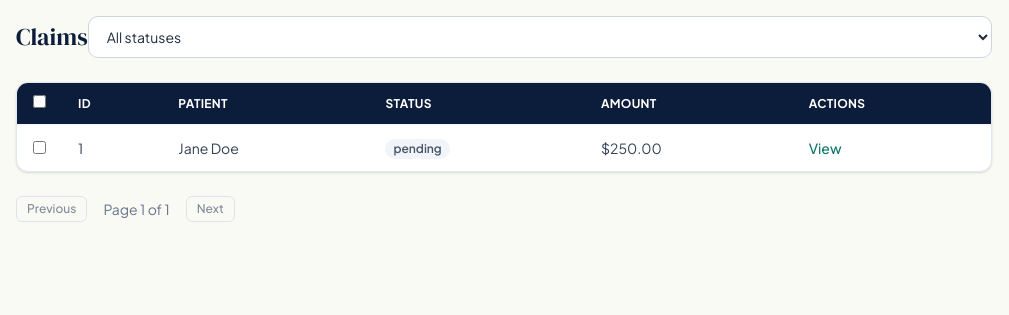
Test: ClaimsList › toolbar appears when a row is selected and clears on Clear
Check: the text "Jane Doe" is shown, box 162,124 -> 369,171
Click the checkbox named "Select claim 1": (40, 148) 33,141 -> 46,154
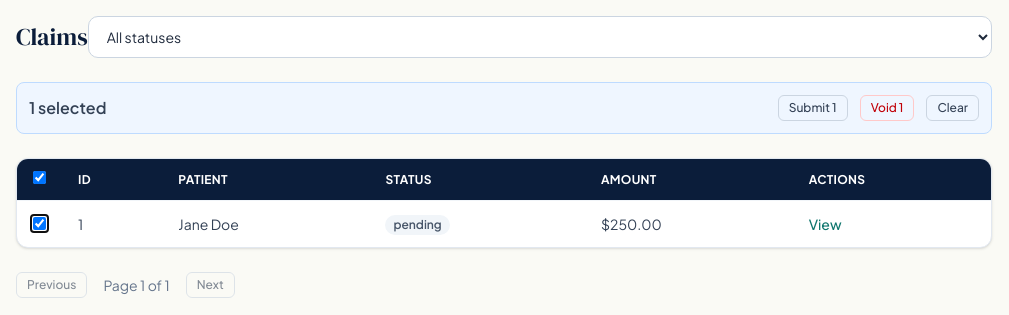
Check: the text "1 selected" is shown, box 29,96 -> 106,120
Check: the button "Submit 1" is shown, box 778,95 -> 848,121
Click the button "Clear": (953, 108) 926,95 -> 979,121
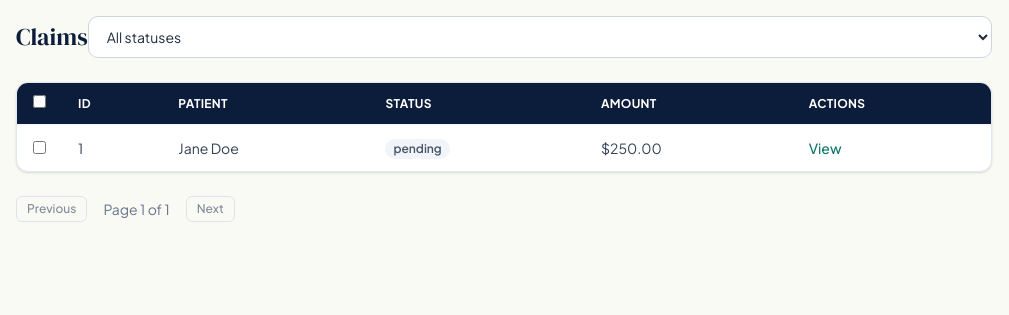
Check: the text "selected" is gone
